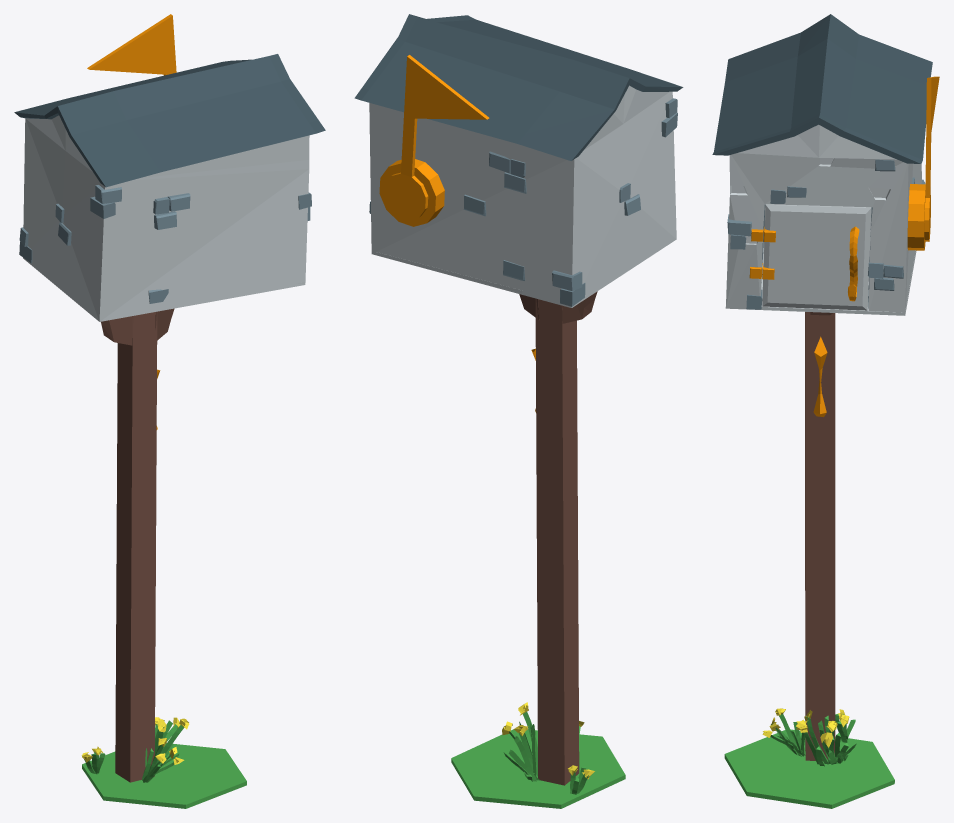
The model's file is castleMailbox.fbx.
3 views of the same model, side by side, from view 1: azimuth 30°, elevation 25°; view 2: azimuth 150°, elevation 25°; view 3: azimuth 270°, elevation 25° (orthographic). The views are drawn at different scales.
Visible parts, largest first — view 1: mesh_346439750, mesh_1018199070, mesh_2098010904, mesh_62313567, mesh_1285827525; view 2: mesh_346439750, mesh_1018199070, mesh_2098010904, mesh_62313567; view 3: mesh_346439750, mesh_1018199070, mesh_1078849932, mesh_2098010904, mesh_62313567, mesh_1481301515, group_1004730471.
Boxes of the visible parts, x1,y1,x2,y2 form: mesh_346439750: (14,54,325,321); mesh_1018199070: (115,312,157,782); mesh_2098010904: (82,743,246,808); mesh_62313567: (87,14,176,75); mesh_1285827525: (101,316,133,345); mesh_346439750: (354,14,683,307); mesh_1018199070: (535,299,579,785); mesh_2098010904: (451,729,625,808); mesh_62313567: (379,55,489,226); mesh_346439750: (712,14,932,312); mesh_1018199070: (805,312,835,760); mesh_1078849932: (762,204,871,310); mesh_2098010904: (724,729,894,808); mesh_62313567: (907,76,939,250); mesh_1481301515: (725,242,916,315); group_1004730471: (848,226,859,301).
Bounding box in the file's own units: 224 × 680 × 192.
